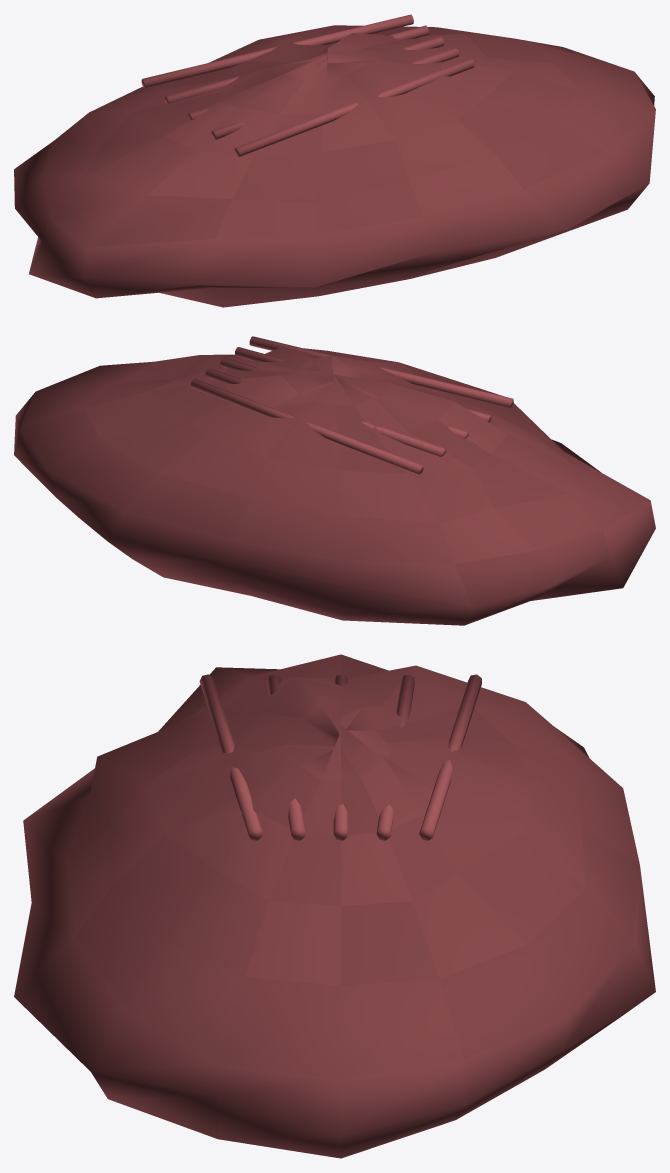
The model's file is Duck.glb.
3 views of the same model, one above another, from view 1: azimuth 30°, elevation 25°; view 2: azimuth 150°, elevation 25°; view 3: azimuth 270°, elevation 25° (orthographic). The views are drawn at different scales.
Visible parts, largest first — view 1: Duck; view 2: Duck; view 3: Duck.
Boxes of the visible parts, x1,y1,x2,y2 form: Duck: [14, 14, 655, 307]; Duck: [14, 336, 655, 625]; Duck: [14, 654, 655, 1158].
Size of what is drawn, in the model's own units: 0.1694 by 0.0503 by 0.1052.
